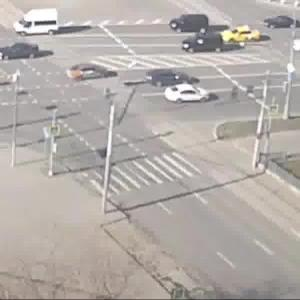car: (166, 5, 212, 32), (62, 66, 117, 88), (17, 10, 65, 31), (2, 42, 44, 66), (144, 71, 198, 88), (184, 33, 224, 54), (167, 85, 206, 105), (219, 25, 258, 44), (264, 18, 300, 37)
